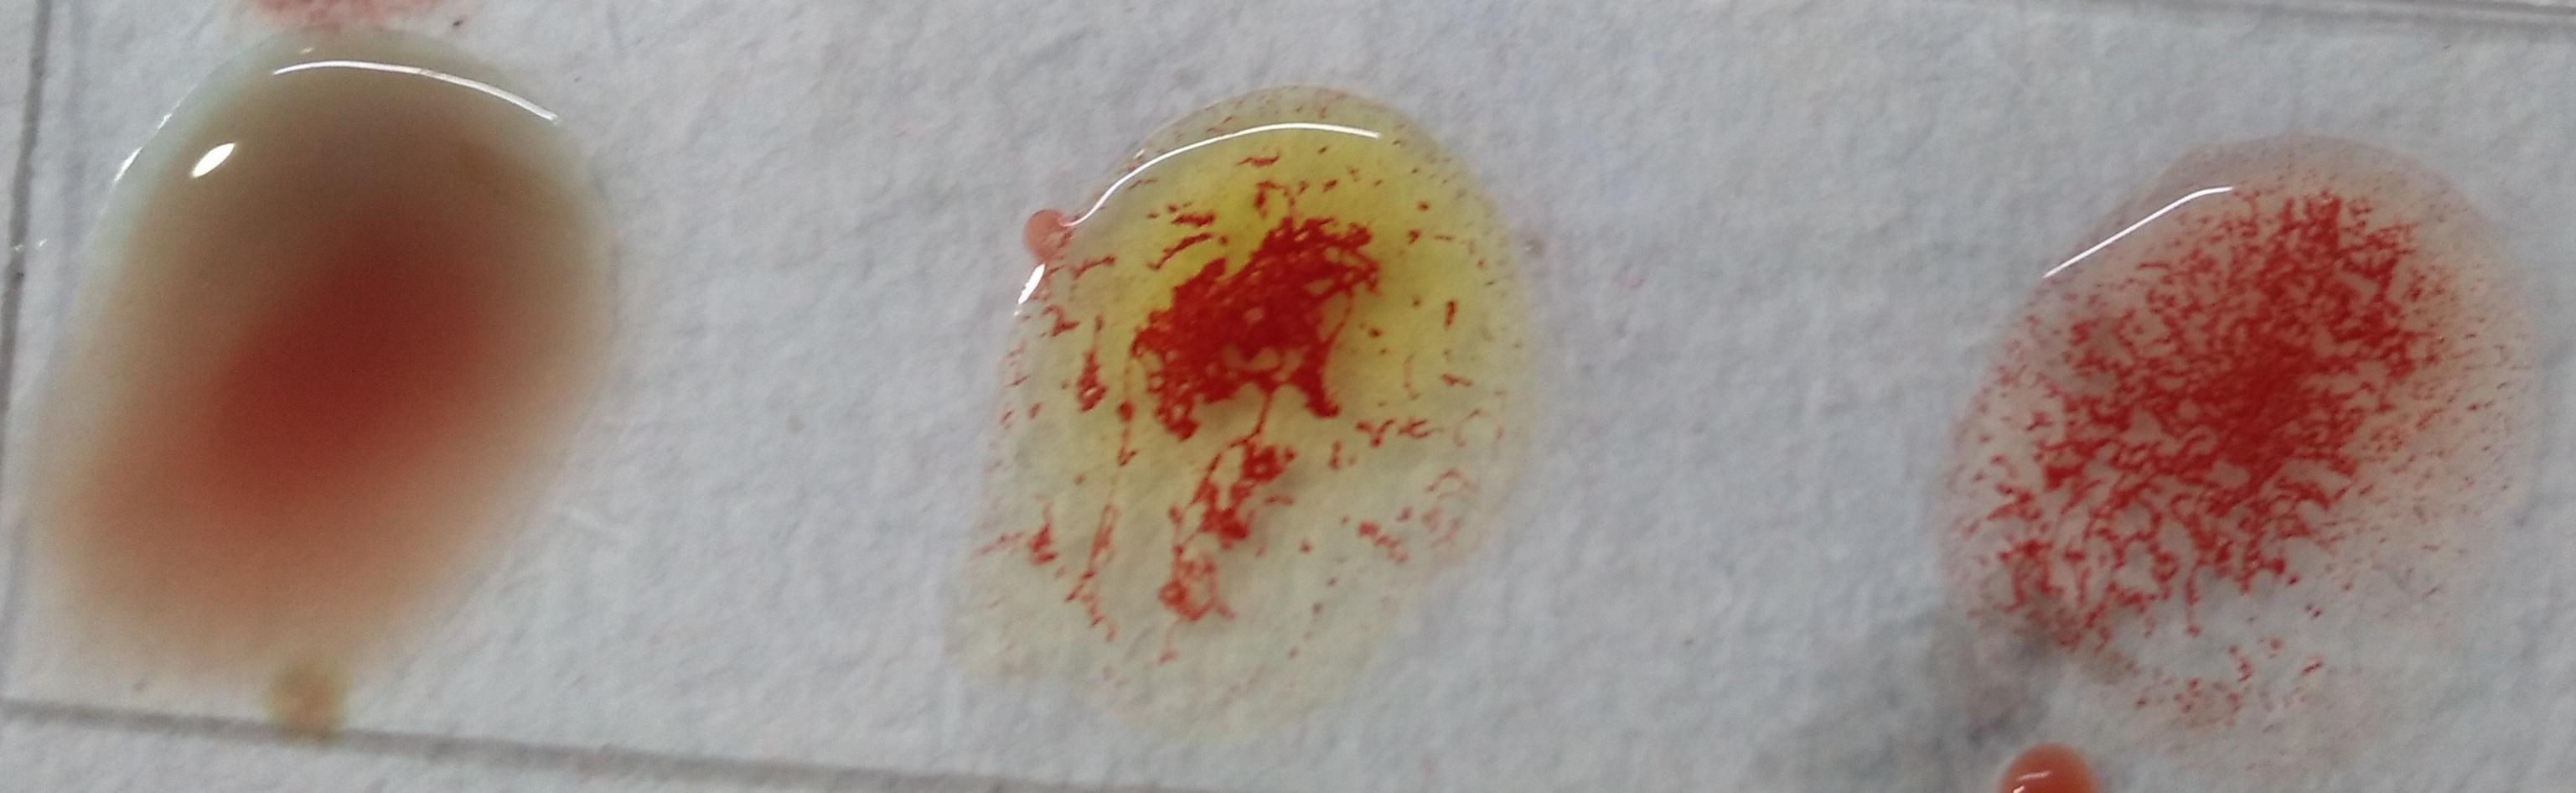B: (1009, 95, 1511, 704)
D: (1958, 135, 2530, 760)
